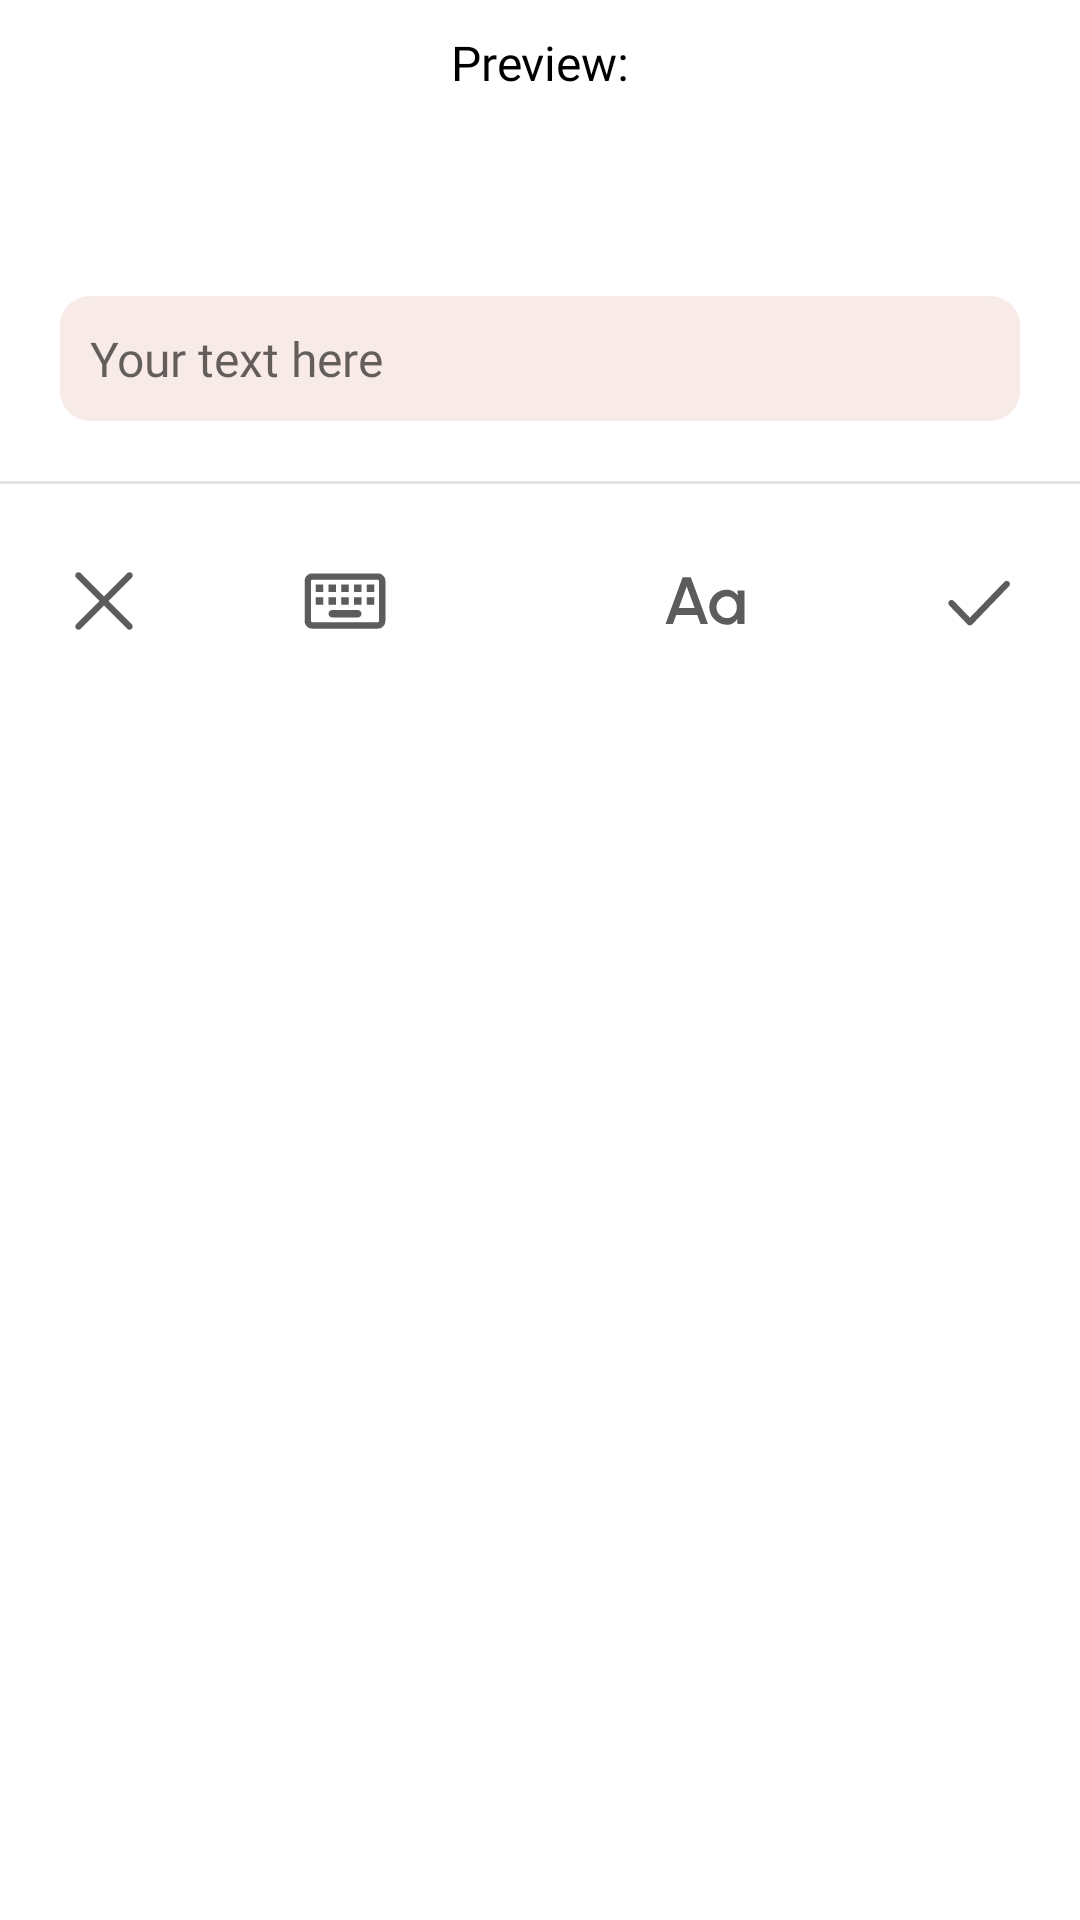

Named icons in this screenshot (1080×1920) and their centers, (x,y):
close: (104,601)
done: (979,603)
keyboard: (345,601)
